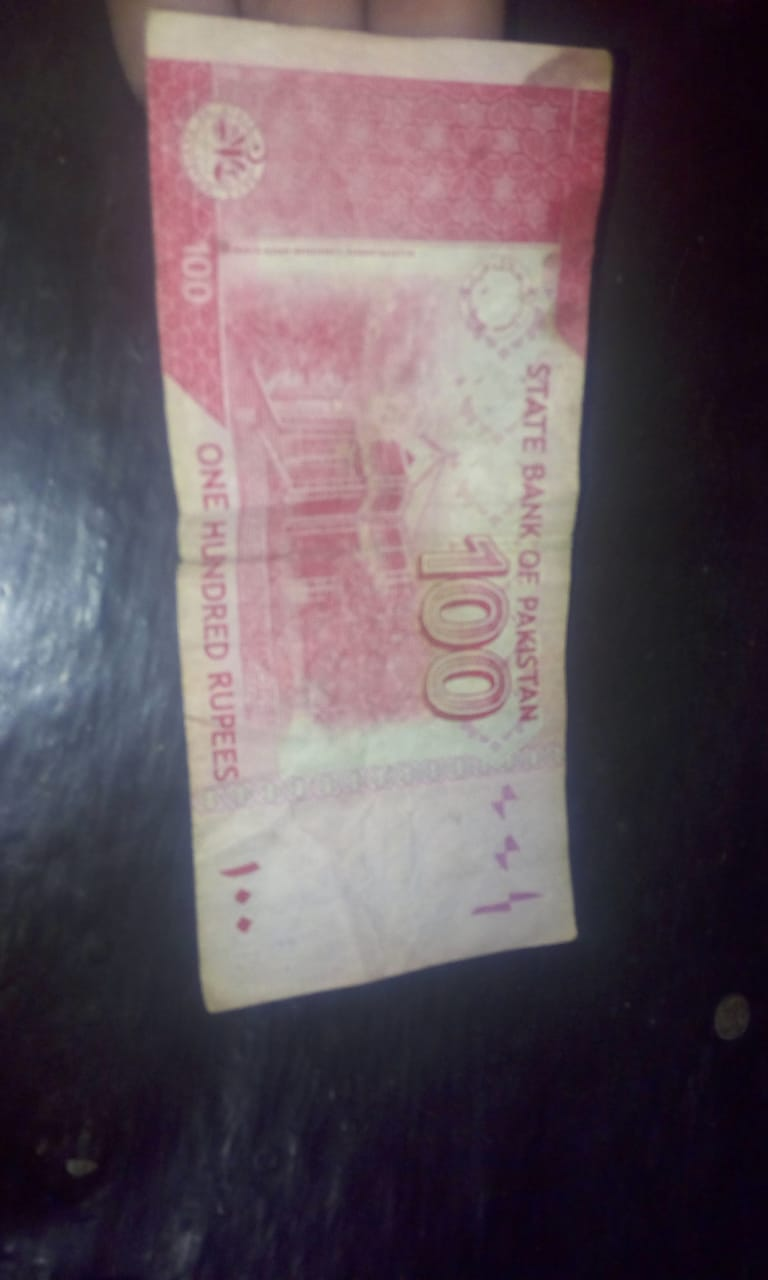100 rupee: (123, 8, 615, 1029)
